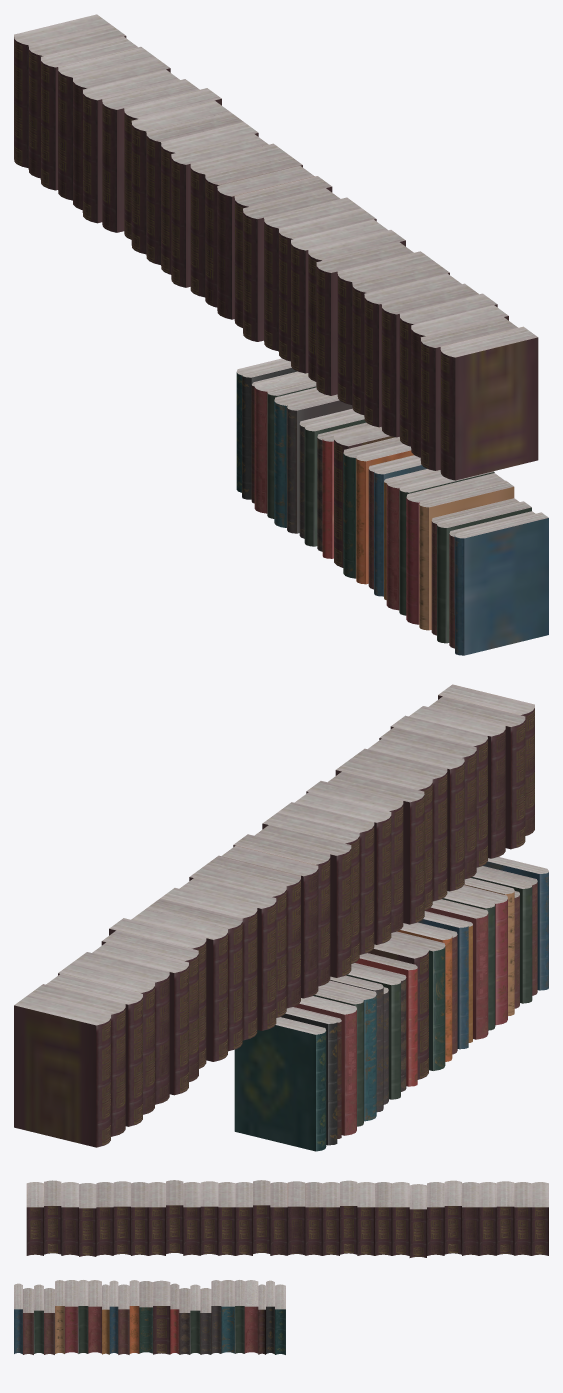
Rendered from ExportLibraryBookEmpty_B.FBX.
3 views of the same model, one above another, from view 1: azimuth 30°, elevation 25°; view 2: azimuth 150°, elevation 25°; view 3: azimuth 270°, elevation 25° (orthographic). The views are drawn at different scales.
Visible parts, largest first — view 1: lib_books_empty_B; view 2: lib_books_empty_B; view 3: lib_books_empty_B.
Boxes of the visible parts, bbox=[...] form: lib_books_empty_B: bbox=[14, 14, 548, 655]; lib_books_empty_B: bbox=[14, 684, 548, 1151]; lib_books_empty_B: bbox=[14, 1180, 548, 1354].
Size of the model in its own units: 15.64 by 121 by 42.67.
